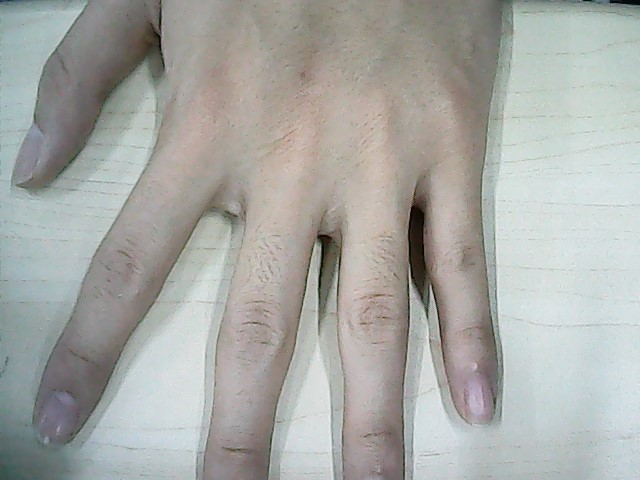nail: (32, 383, 80, 450), (9, 121, 44, 188), (458, 368, 497, 425)
